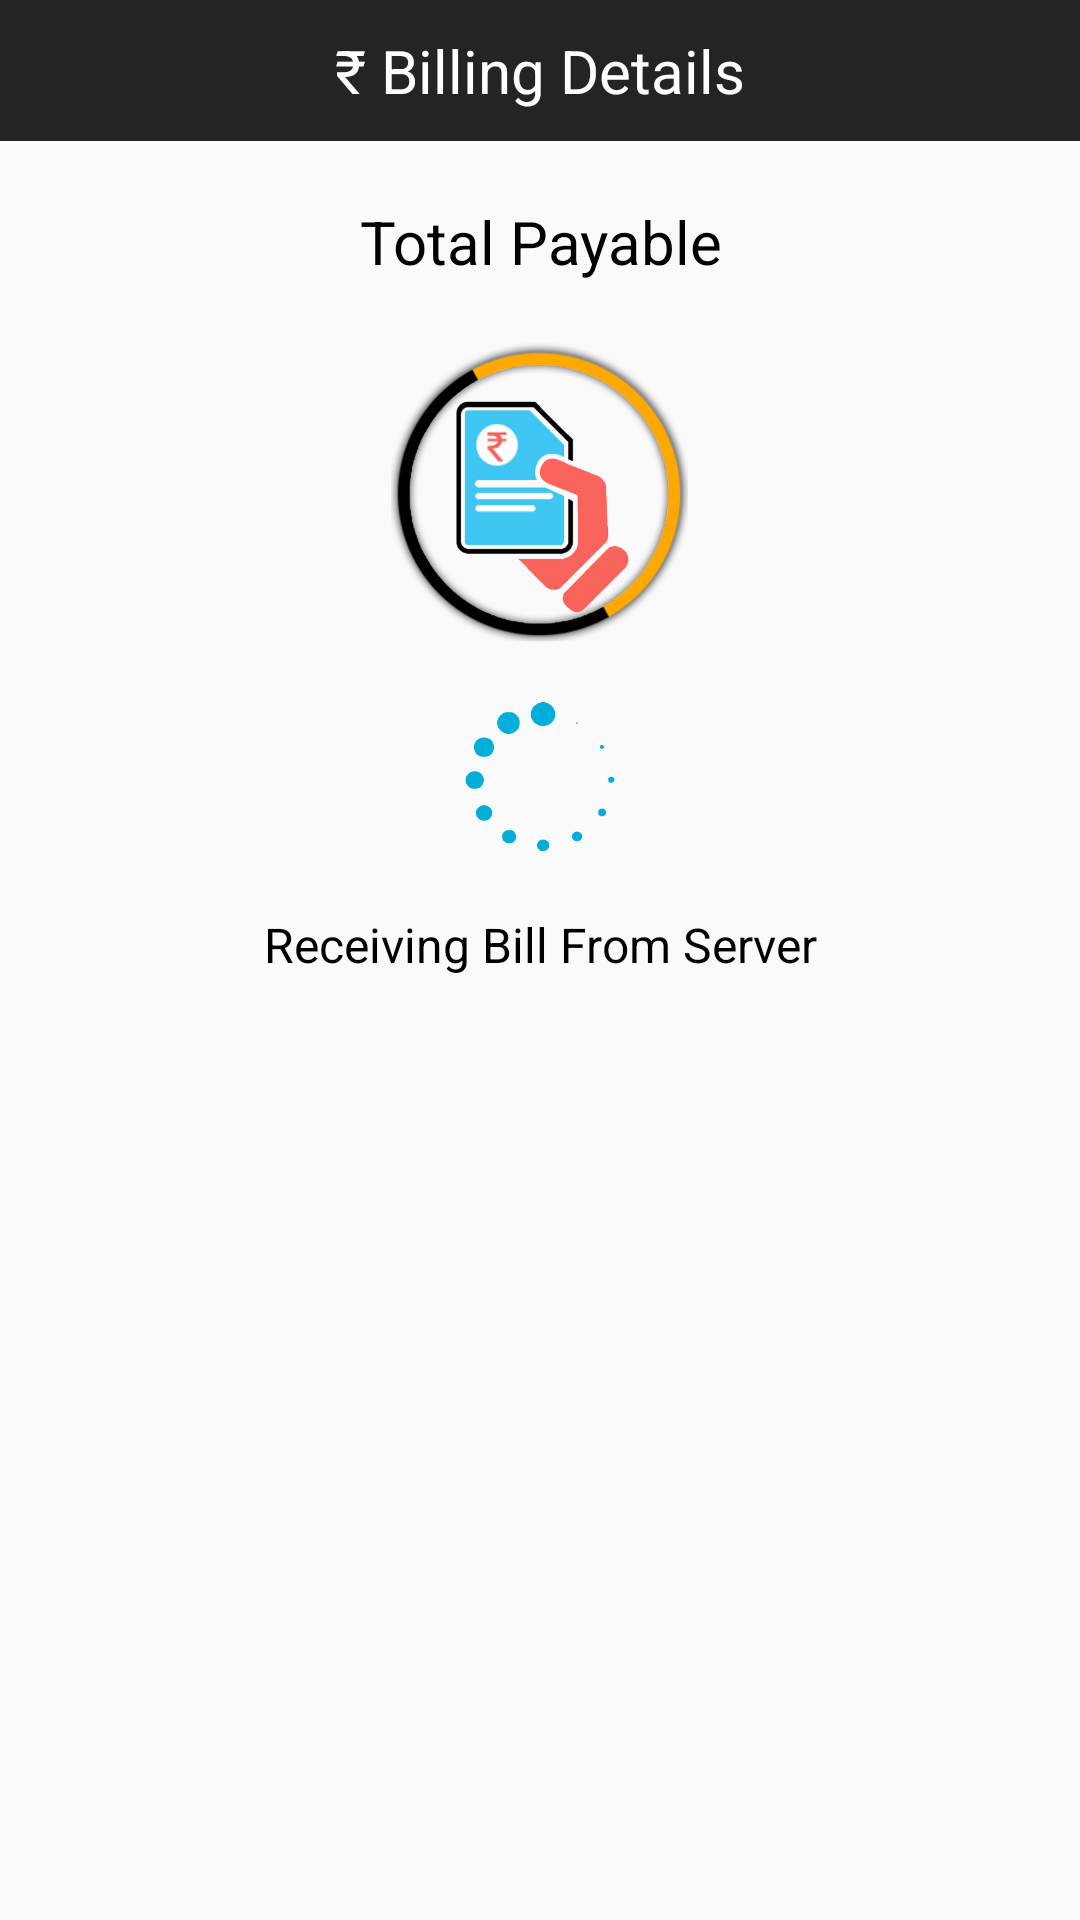

Locate icon controls on the screen. Image size 1080*1920, boxes as BBox(x1, y1, x2, y2).
bill: BBox(392, 346, 687, 641)
loading: BBox(465, 702, 615, 852)
